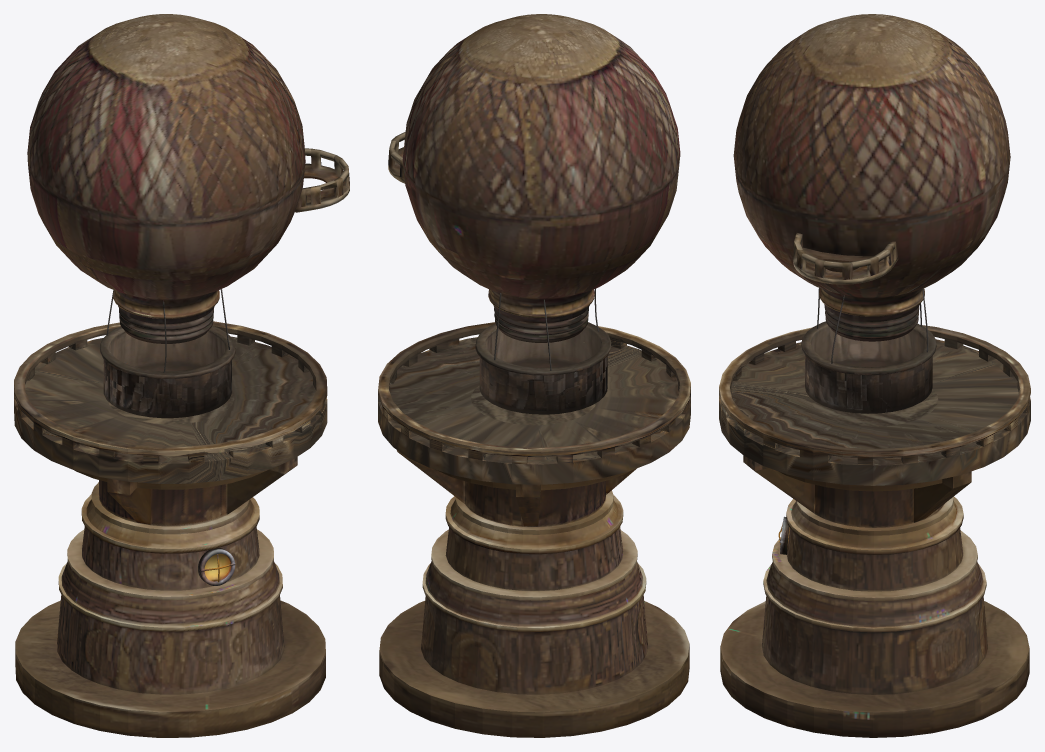
Rendered from Bloon tower Lv 2.fbx.
3 renders of one model, left to right at view 1: azimuth 30°, elevation 25°; view 2: azimuth 150°, elevation 25°; view 3: azimuth 270°, elevation 25°, orthographic.
Parts seen in each view (by area): view 1: Bloon tower Lv 2; view 2: Bloon tower Lv 2; view 3: Bloon tower Lv 2.
Part boxes in pixels (left/top/right/bottom): Bloon tower Lv 2: left=14, top=14, right=349, bottom=737; Bloon tower Lv 2: left=378, top=14, right=690, bottom=737; Bloon tower Lv 2: left=719, top=14, right=1030, bottom=737.
Bounding box in the file's own units: 6.59 × 13.95 × 6.13.
Materials: 8 (8 with a texture image).
